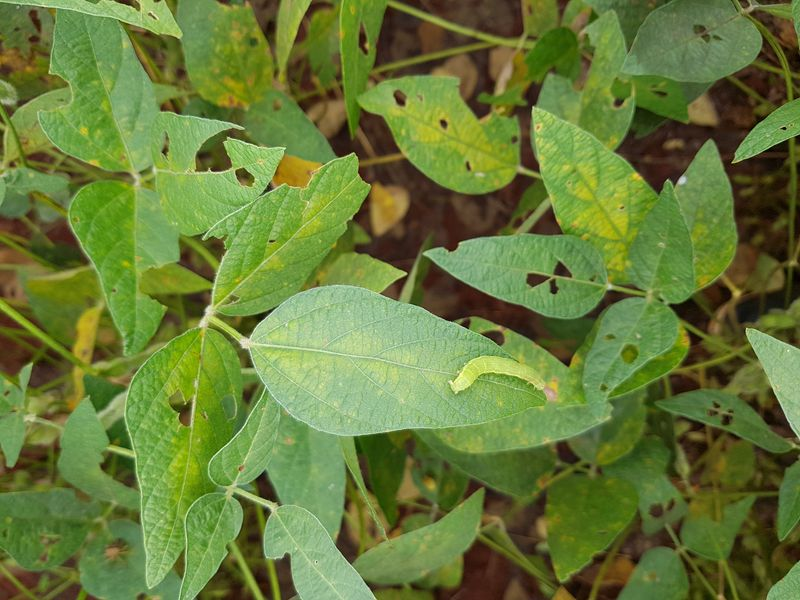Anticarsia_gemmatalis: (438, 344, 560, 418)
Euschistus_heros_adulto: (97, 534, 135, 568)
